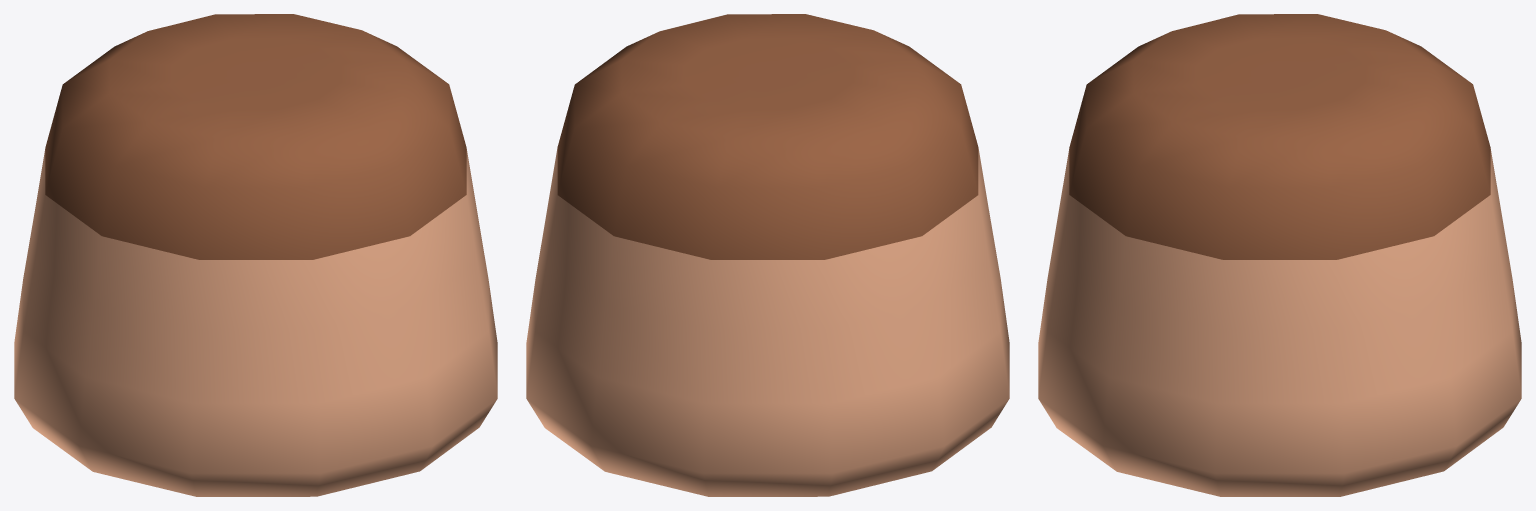
File: candy_assets13.fbx
3 views of the same model, side by side, from view 1: azimuth 30°, elevation 25°; view 2: azimuth 150°, elevation 25°; view 3: azimuth 270°, elevation 25° (orthographic).
Parts seen in each view (by area): view 1: candy_assets13; view 2: candy_assets13; view 3: candy_assets13.
Part boxes in pixels (x1,y1,x2,y2): candy_assets13: (14,14,497,496); candy_assets13: (526,14,1009,496); candy_assets13: (1038,14,1521,496).
Size of the model in its own units: 494 by 379 by 494.
1 material, 1 textured.
